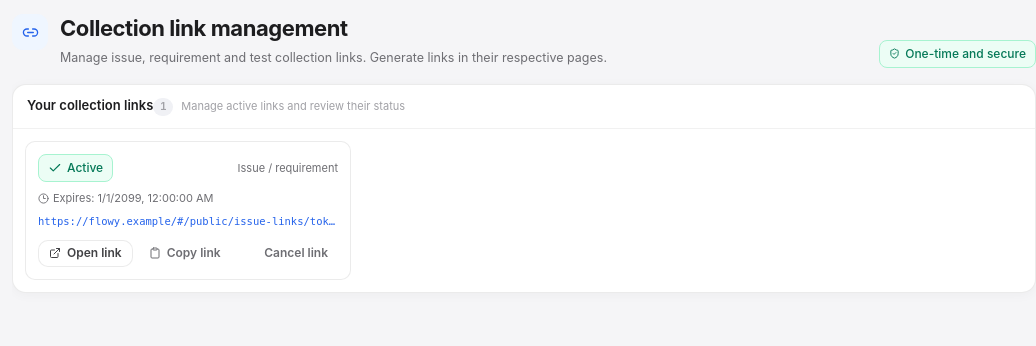
Scenario: TemporaryIssueLinksPage › keeps the active link if cancellation fails
The width and height of the screenshot is (1036, 346).
Step 1. Click the button "Cancel link" → (296, 253), box [254,241,338,266]
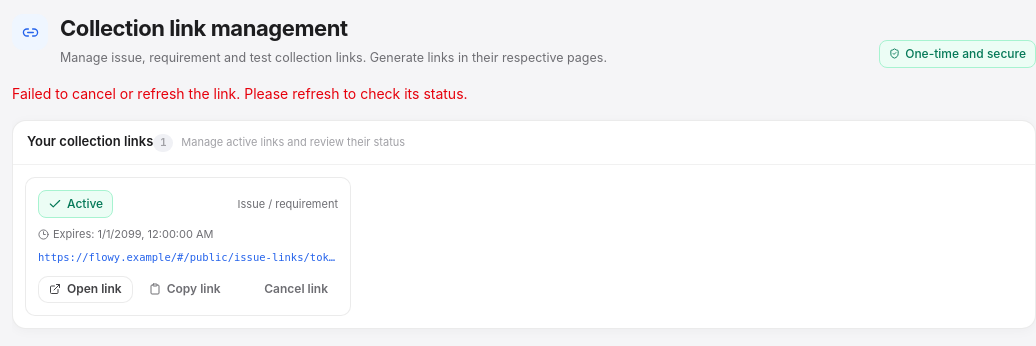
Result: the message "Failed to cancel or refresh the link. Please refresh to check its status." is shown at [12,85,468,102]
